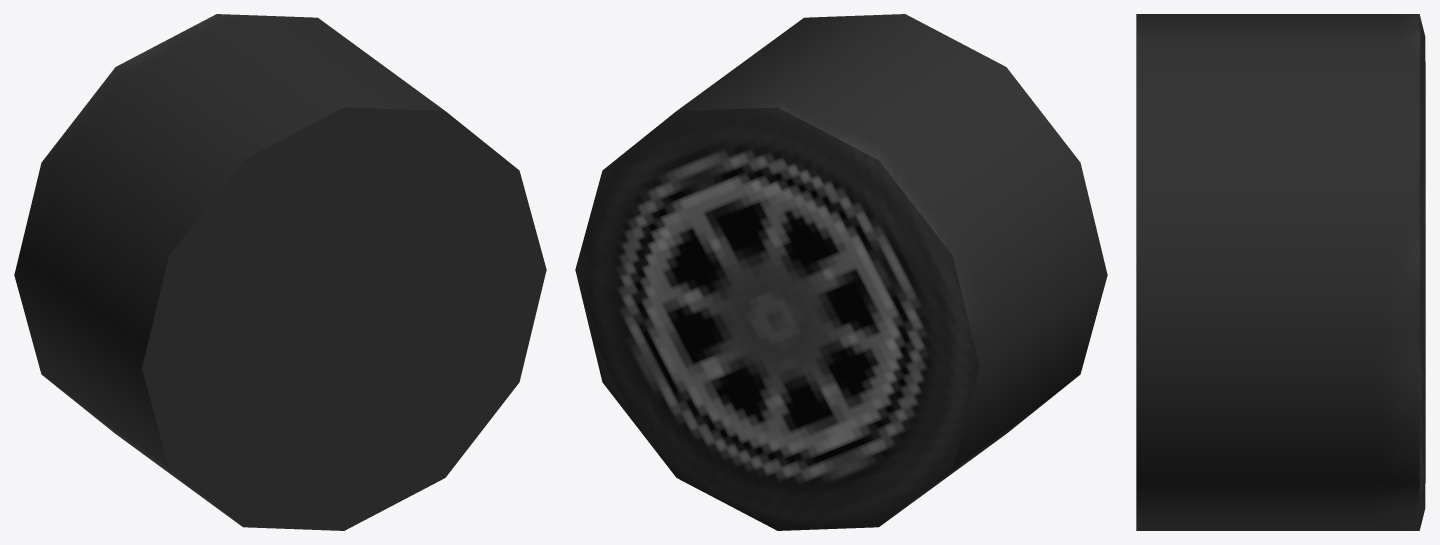
The model's file is wheel_RR.fbx.
3 renders of one model, left to right at view 1: azimuth 30°, elevation 25°; view 2: azimuth 150°, elevation 25°; view 3: azimuth 270°, elevation 25°, orthographic. The views are drawn at different scales.
Parts seen in each view (by area): view 1: wheel_RR; view 2: wheel_RR; view 3: wheel_RR.
Part boxes in pixels (x1,y1,x2,y2): wheel_RR: [14, 14, 546, 530]; wheel_RR: [575, 14, 1107, 530]; wheel_RR: [1136, 14, 1425, 530].
Size of the model in its own units: 123 by 123 by 68.44.
